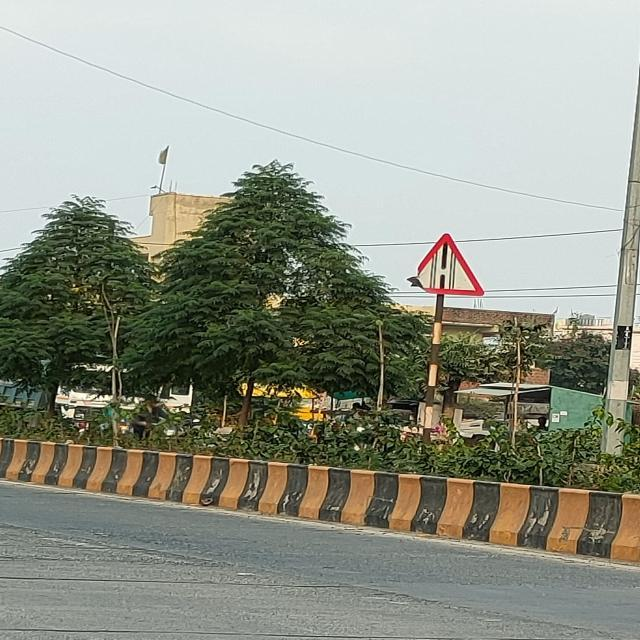gap in median: (404, 230, 486, 298)
